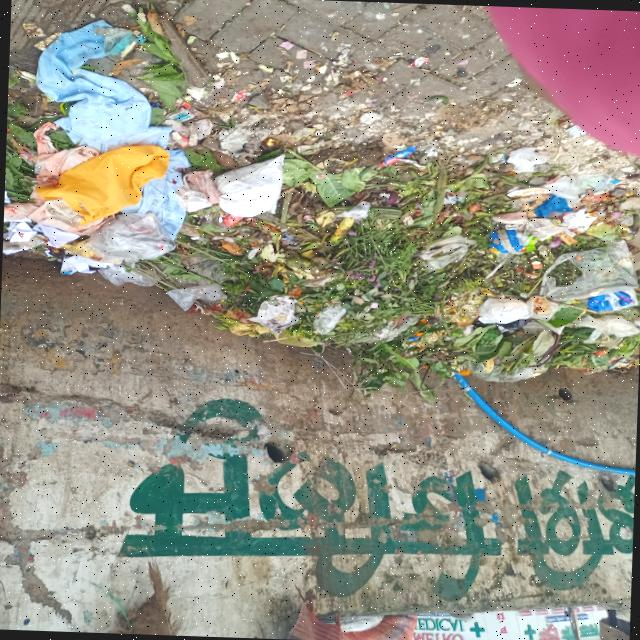garbage: (0, 11, 321, 332), (318, 148, 640, 387)
